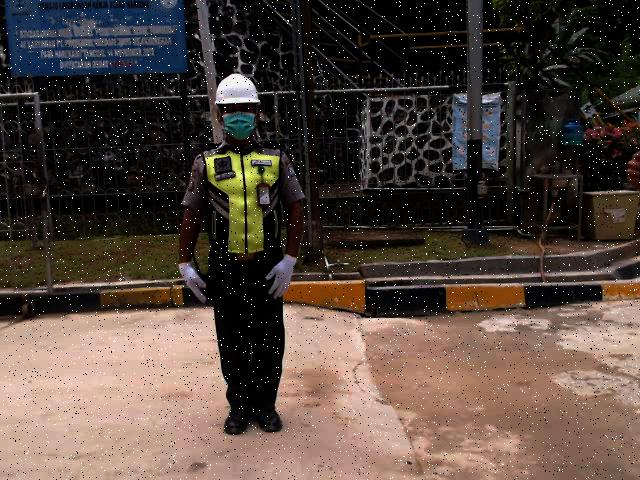gloves: (174, 258, 212, 310), (262, 250, 299, 302)
helmet: (213, 72, 262, 106)
mask: (221, 111, 256, 142)
safety-shoes: (252, 402, 288, 435), (222, 406, 252, 437)
